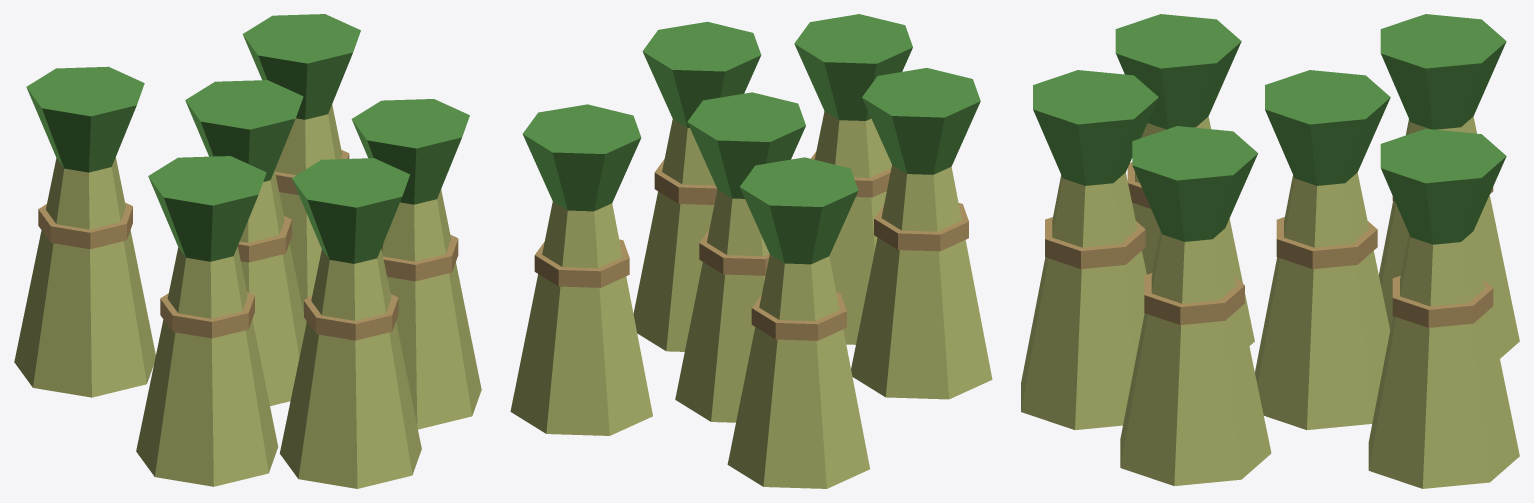
File: pile_flax_3.glb
3 views of the same model, side by side, from view 1: azimuth 30°, elevation 25°; view 2: azimuth 150°, elevation 25°; view 3: azimuth 270°, elevation 25° (orthographic). The views are drawn at different scales.
Parts seen in each view (by area): view 1: pile_flax_3; view 2: pile_flax_3; view 3: pile_flax_3.
Part boxes in pixels (left/top/right/bottom): pile_flax_3: left=14, top=14, right=481, bottom=488; pile_flax_3: left=510, top=14, right=992, bottom=488; pile_flax_3: left=1021, top=14, right=1519, bottom=488.
Size of the model in its own units: 1.29 by 1 by 1.51.
